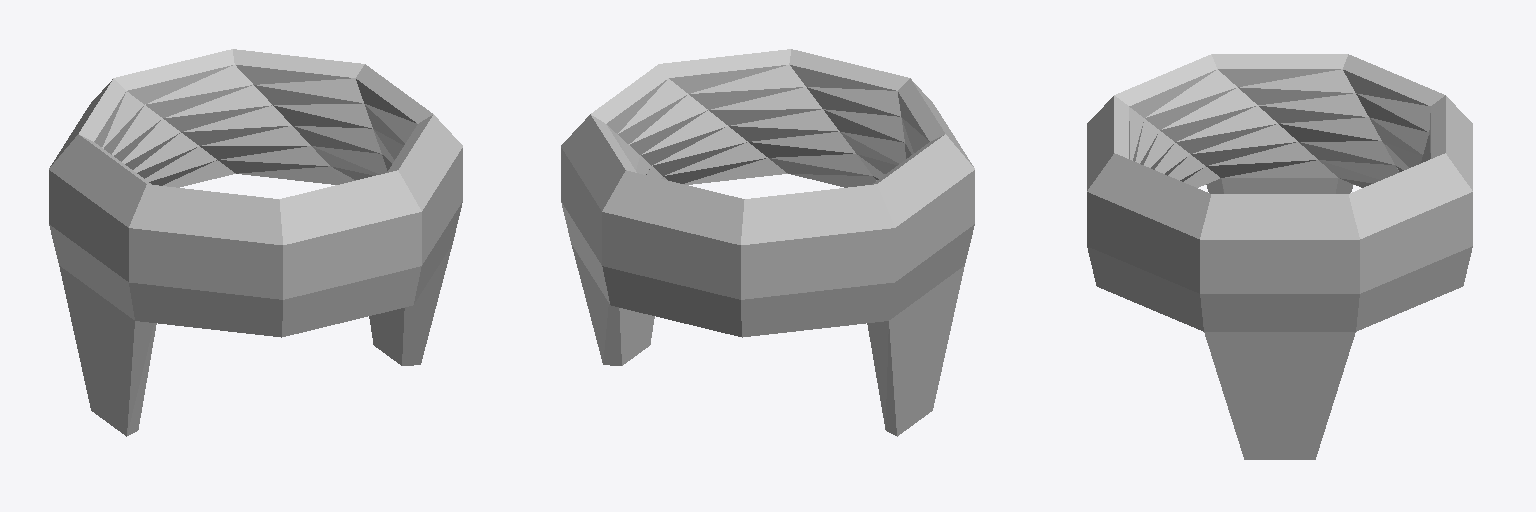
Rendered from drone02.obj.
3 views of the same model, side by side, from view 1: azimuth 30°, elevation 25°; view 2: azimuth 150°, elevation 25°; view 3: azimuth 270°, elevation 25° (orthographic).
Bounding box in the file's own units: 2.05 × 1.54 × 2.05.